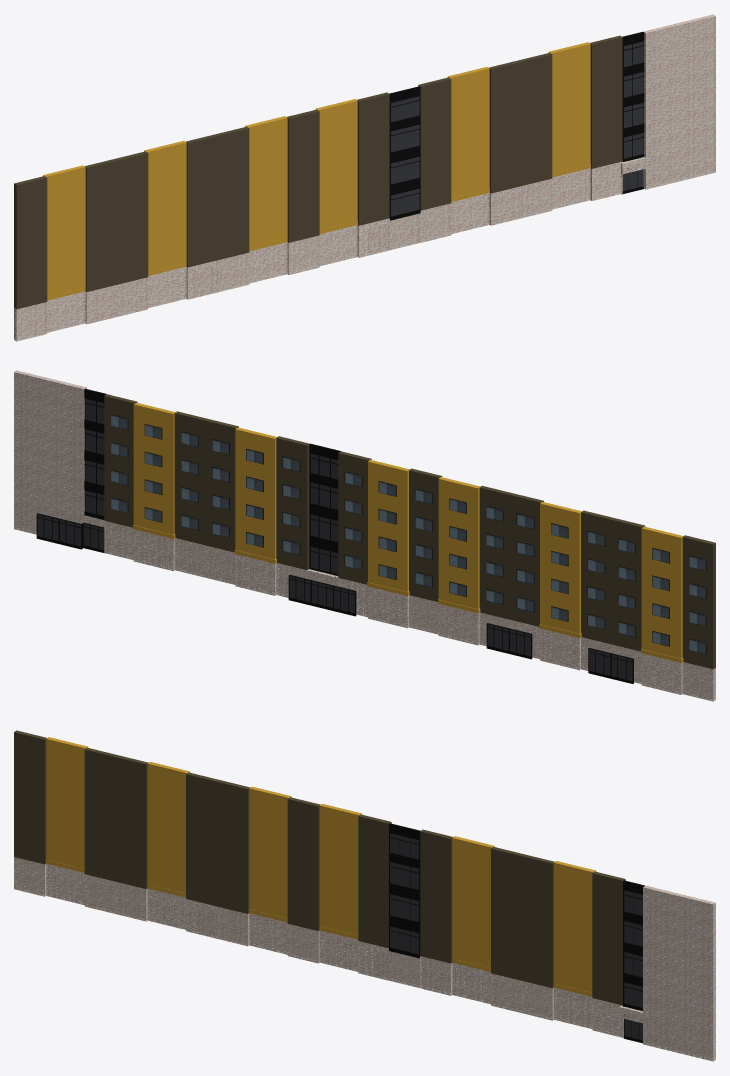
File: camelback_back.obj
3 renders of one model, top to bottom at view 1: azimuth 30°, elevation 25°; view 2: azimuth 150°, elevation 25°; view 3: azimuth 330°, elevation 25°, orthographic.
Visible parts, largest first — view 1: Part243, Part35, Part73, Part192, Part104, Part171, Part223, Part47, Part214, Part183, Part26, Part162 (+28 smaller); view 2: Part243, Part35, Part104, Part192, Part73, Part171, Part223, Part47, Part85, Part116, Part204, Part235 (+23 smaller); view 3: Part243, Part171, Part192, Part73, Part104, Part223, Part35, Part85, Part116, Part183, Part235, Part47 (+28 smaller).
Boxes of the visible parts, bbox=[...] form: Part243: bbox=[643, 14, 715, 189]; Part35: bbox=[43, 165, 85, 296]; Part73: bbox=[447, 67, 489, 197]; Part192: bbox=[245, 116, 287, 247]; Part104: bbox=[548, 42, 590, 173]; Part171: bbox=[315, 99, 357, 229]; Part223: bbox=[144, 141, 186, 271]; Part47: bbox=[14, 176, 47, 309]; Part214: bbox=[185, 134, 218, 267]; Part183: bbox=[286, 109, 319, 242]; Part26: bbox=[85, 159, 117, 291]; Part162: bbox=[357, 92, 389, 225]; Part243: bbox=[14, 370, 86, 534]; Part35: bbox=[641, 526, 683, 658]; Part104: bbox=[133, 402, 175, 534]; Part192: bbox=[438, 477, 480, 608]; Part73: bbox=[235, 427, 276, 559]; Part171: bbox=[368, 459, 409, 591]; Part223: bbox=[540, 501, 581, 633]; Part47: bbox=[682, 535, 715, 669]; Part85: bbox=[276, 436, 309, 569]; Part116: bbox=[174, 411, 207, 545]; Part204: bbox=[479, 485, 512, 619]; Part235: bbox=[581, 510, 613, 644]; Part243: bbox=[643, 885, 715, 1061]; Part171: bbox=[319, 804, 361, 935]; Part192: bbox=[249, 786, 291, 918]; Part73: bbox=[452, 836, 494, 967]; Part104: bbox=[554, 861, 596, 992]; Part223: bbox=[147, 761, 189, 893]; Part35: bbox=[46, 737, 88, 868]; Part85: bbox=[420, 829, 453, 963]; Part116: bbox=[521, 854, 554, 988]; Part183: bbox=[287, 797, 320, 931]; Part235: bbox=[115, 755, 148, 889]; Part47: bbox=[14, 730, 46, 864].
Bounding box in the file's own units: 318 × 68.58 × 4.6.
9 materials, 3 textured.
